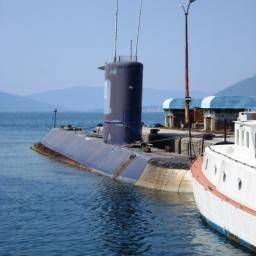submarine: (29, 64, 198, 195)
